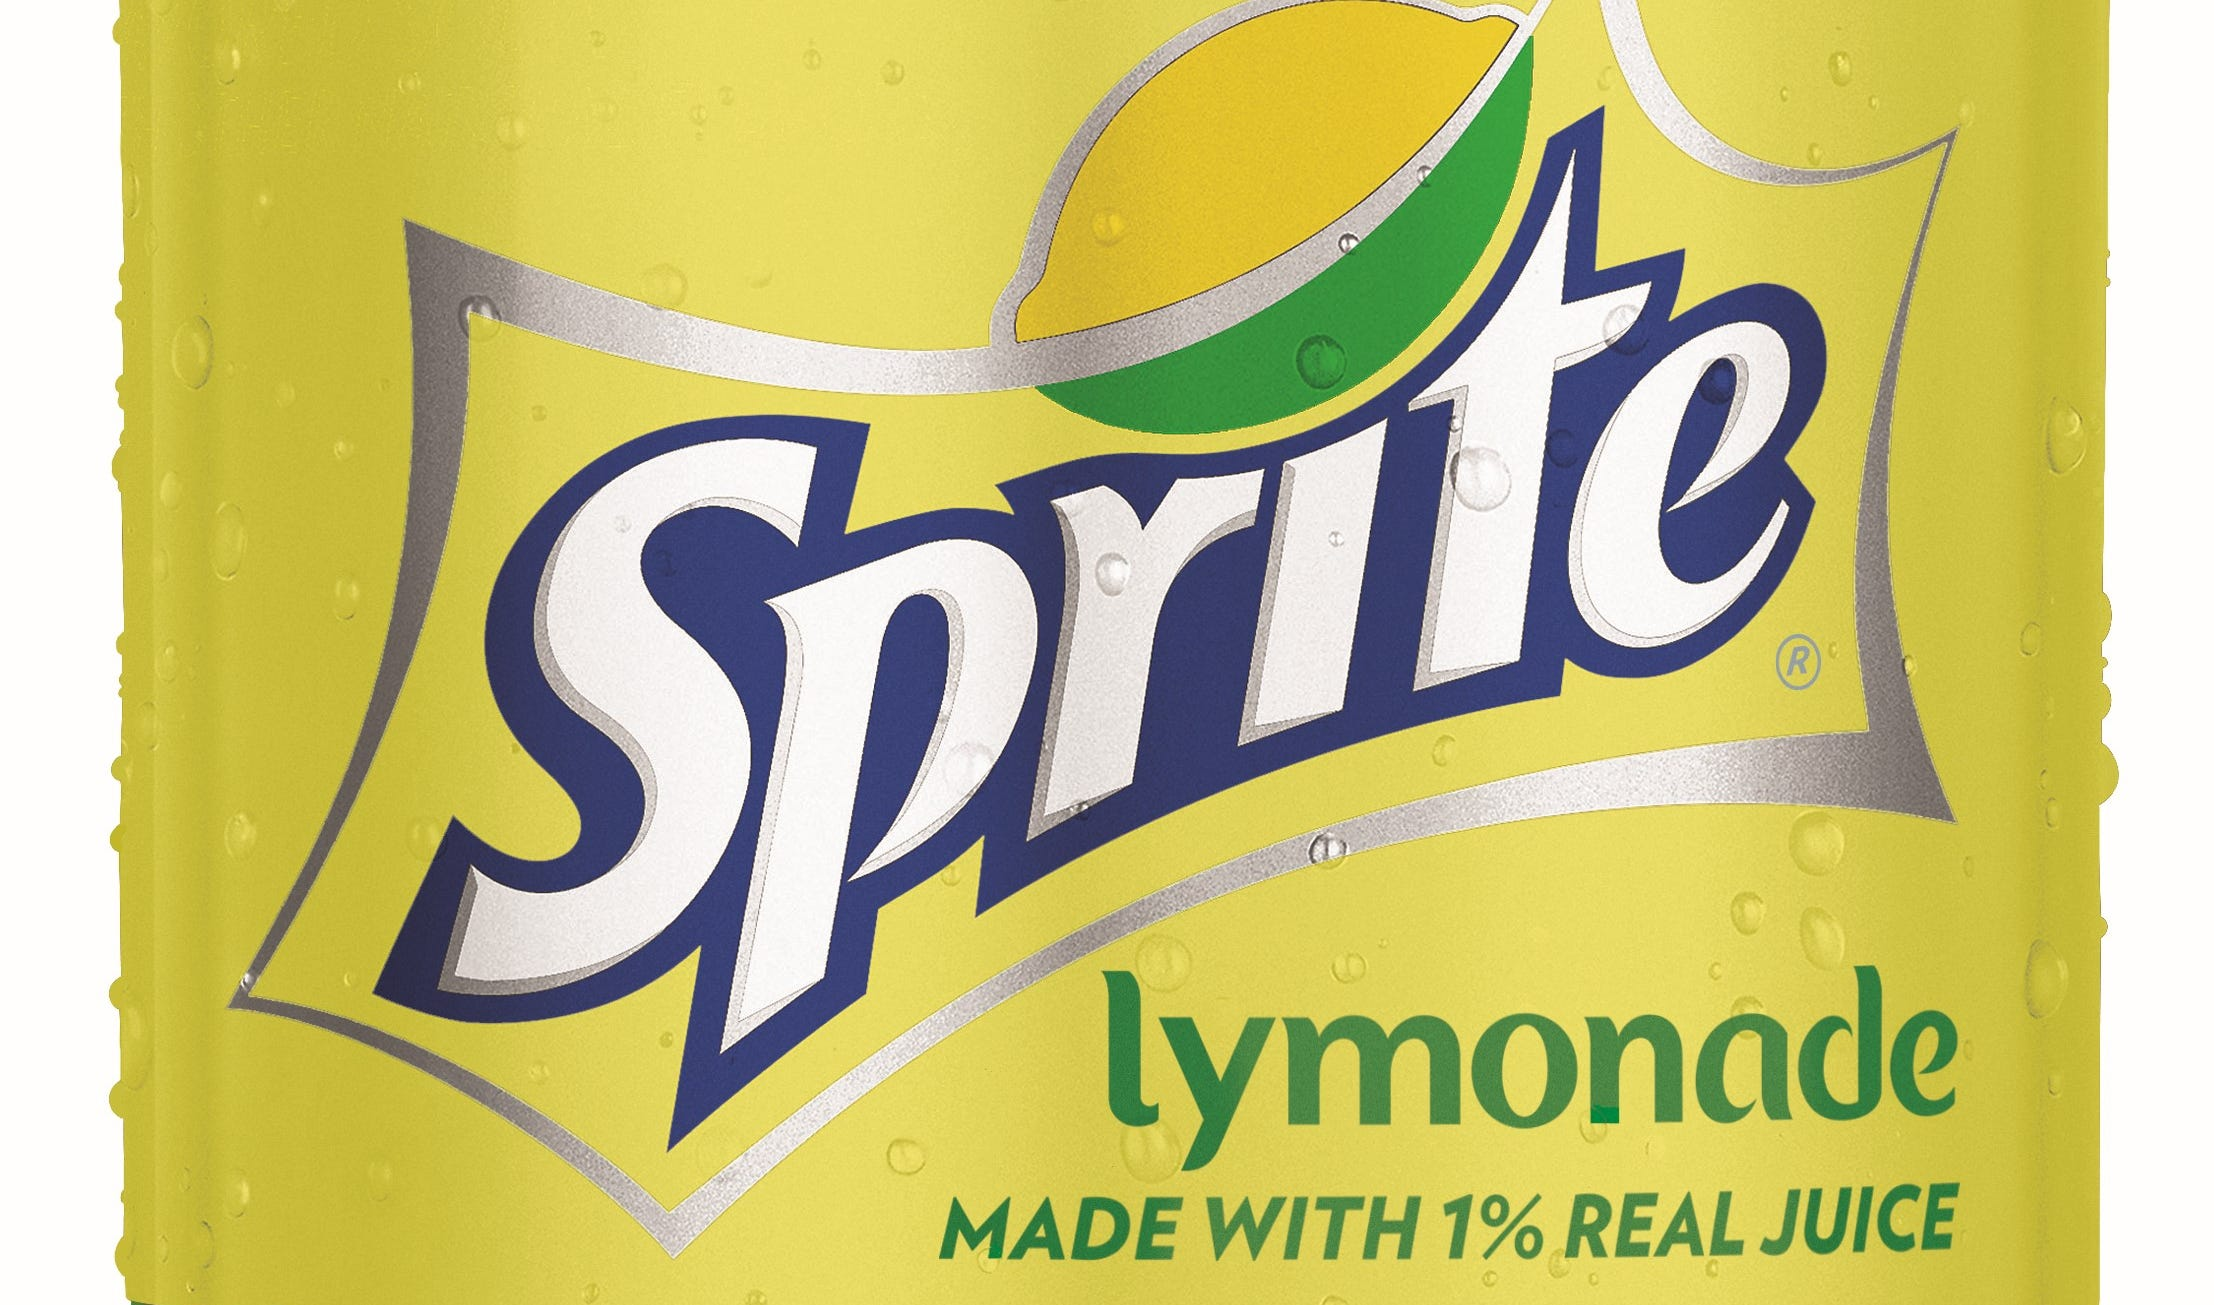Sprite: (362, 295, 2097, 1069)
